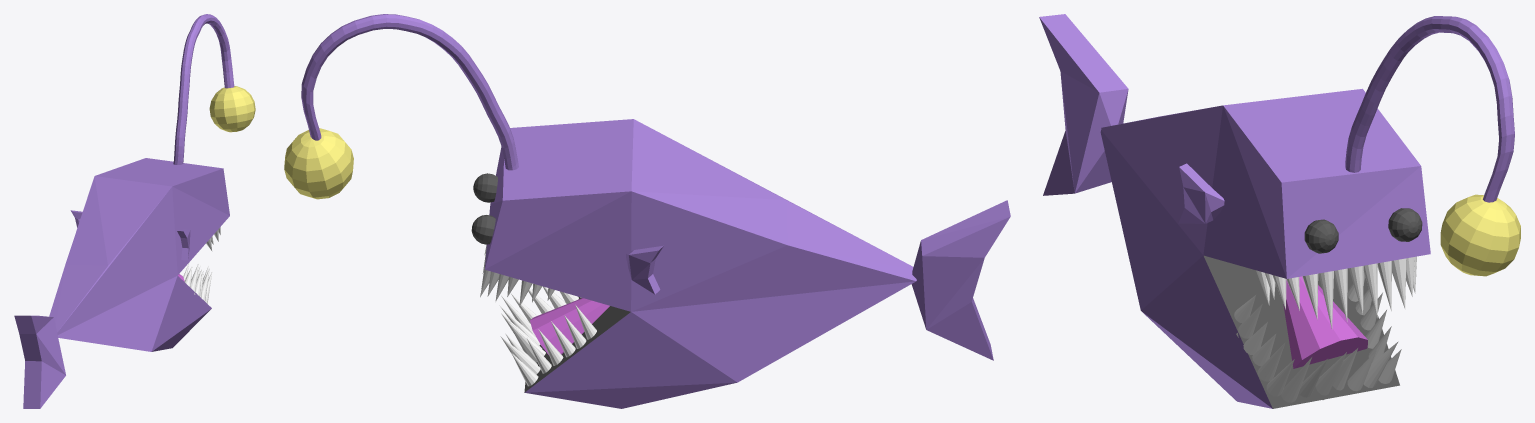
File: angler_fbx.fbx
The picture shows the model from 3 angles, left to right: view 1: azimuth 30°, elevation 25°; view 2: azimuth 150°, elevation 25°; view 3: azimuth 270°, elevation 25°; orthographic projection. The views are drawn at different scales.
Visible parts, largest first — view 1: model; view 2: model; view 3: model.
Part boxes in pixels (box(x1,y1,x2,y2)): model: box(14, 14, 255, 408); model: box(284, 14, 1010, 408); model: box(1039, 14, 1520, 408).
Size of the model in its own units: 167 by 118 by 111.
